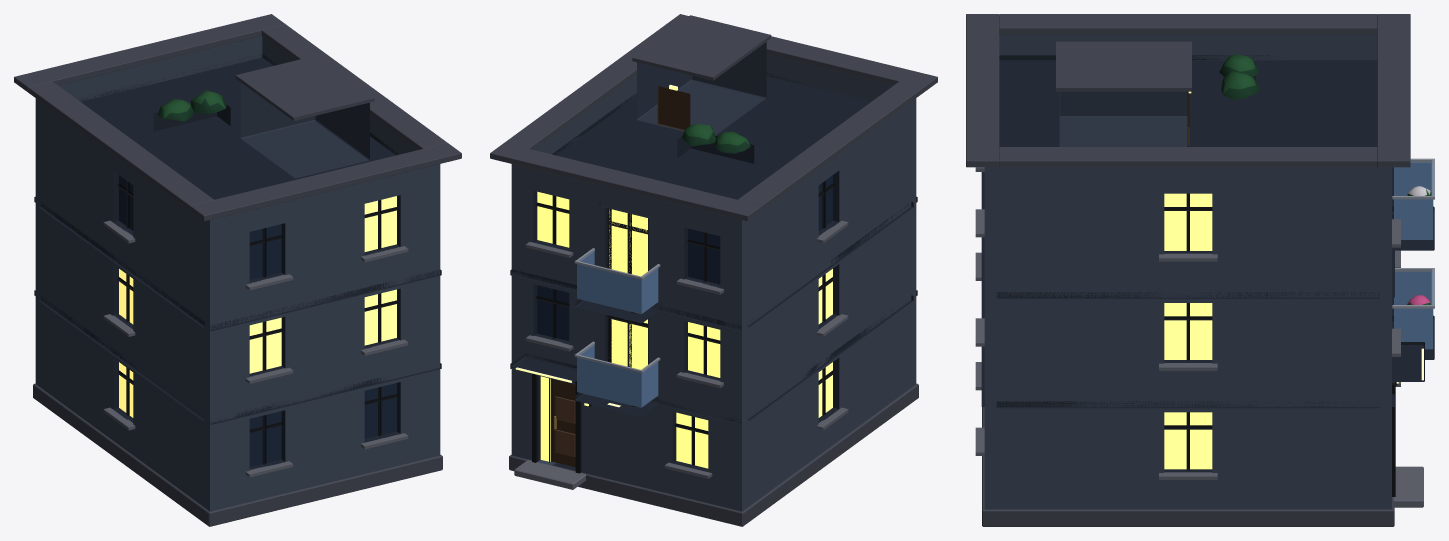
Rendered from house_c.glb.
The picture shows the model from 3 angles, left to right: view 1: azimuth 30°, elevation 25°; view 2: azimuth 150°, elevation 25°; view 3: azimuth 270°, elevation 25°; orthographic projection. The views are drawn at different scales.
Visible parts, largest first — view 1: house, plants; view 2: house, plants; view 3: house, plants.
Part boxes in pixels (x1,y1,x2,y2): house: (14, 14, 461, 526); plants: (158, 90, 226, 121); house: (490, 14, 937, 526); plants: (630, 123, 750, 406); house: (966, 14, 1434, 526); plants: (1219, 54, 1431, 304).
Size of the model in its own units: 6.5 by 8.62 by 8.76.
